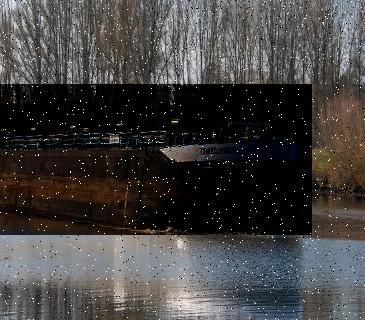Ship: (0, 84, 312, 235)
